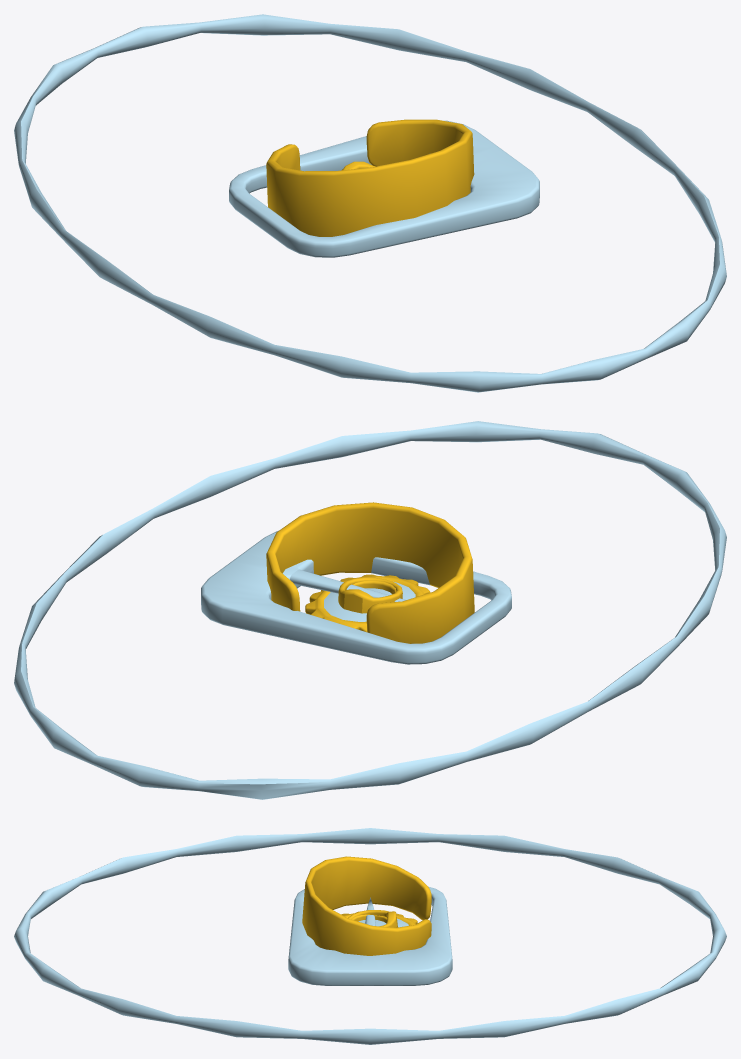
File: Jewelry.fbx
3 views of the same model, one above another, from view 1: azimuth 30°, elevation 25°; view 2: azimuth 150°, elevation 25°; view 3: azimuth 270°, elevation 25° (orthographic). The views are drawn at different scales.
Parts seen in each view (by area): view 1: Necklace01A, Bracelet01A-LOD0, Brooch01A; view 2: Necklace01A, Bracelet01A-LOD0, Brooch01A, Pendant01D-LOD0, Ring02A-LOD0; view 3: Necklace01A, Bracelet01A-LOD0, Brooch01A, Ring02A-LOD0.
Boxes of the visible parts, x1,y1,x2,y2 form: Necklace01A: (14, 14, 726, 392); Bracelet01A-LOD0: (266, 119, 474, 236); Brooch01A: (229, 120, 539, 257); Necklace01A: (14, 421, 726, 799); Bracelet01A-LOD0: (266, 502, 474, 643); Brooch01A: (201, 531, 511, 664); Pendant01D-LOD0: (305, 574, 429, 632); Ring02A-LOD0: (338, 577, 402, 613); Necklace01A: (14, 828, 726, 1044); Bracelet01A-LOD0: (302, 856, 431, 955); Brooch01A: (288, 886, 452, 985); Ring02A-LOD0: (348, 910, 397, 927).
Size of what is drawn, in the model's own units: 0.2466 by 0.036 by 0.363.
